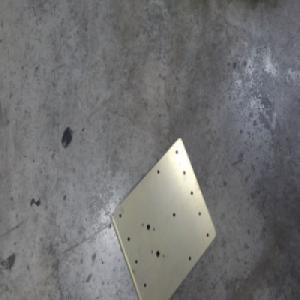MetalSheet: (108, 135, 216, 300)
